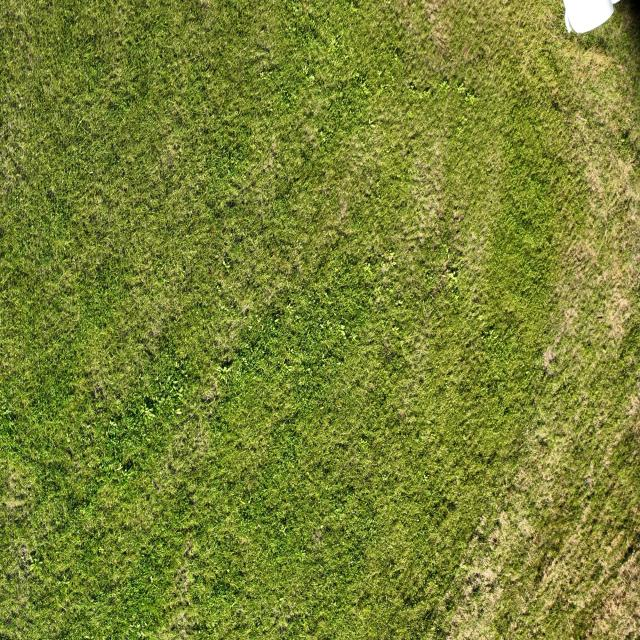rumex: (441, 273, 550, 421), (305, 367, 398, 525), (66, 436, 172, 570), (58, 130, 156, 264), (46, 70, 132, 192), (212, 134, 292, 242), (140, 125, 211, 220), (486, 146, 557, 239), (139, 366, 196, 442), (313, 293, 362, 360), (317, 26, 354, 88), (218, 126, 258, 177), (243, 144, 282, 192), (166, 599, 201, 636), (329, 196, 355, 232), (512, 512, 536, 541), (86, 381, 112, 407), (431, 492, 457, 516), (409, 81, 433, 103), (216, 364, 234, 391), (227, 178, 251, 198), (25, 547, 42, 573), (140, 404, 156, 426), (258, 64, 274, 85), (471, 43, 487, 64), (312, 526, 326, 548), (359, 75, 372, 96), (362, 262, 376, 279), (323, 349, 339, 362), (232, 345, 246, 359), (122, 458, 134, 473), (407, 128, 420, 141), (373, 286, 385, 300), (143, 396, 155, 410), (1, 402, 12, 417), (330, 36, 340, 52), (334, 32, 344, 48), (175, 392, 187, 405), (143, 346, 155, 359), (305, 70, 316, 84), (106, 423, 115, 439), (481, 329, 493, 341), (336, 441, 349, 452), (456, 82, 466, 95), (466, 93, 476, 106), (7, 412, 18, 423), (439, 80, 449, 92), (362, 186, 372, 198), (620, 128, 630, 140), (222, 258, 231, 271), (241, 305, 250, 318), (238, 496, 248, 507), (458, 115, 468, 126), (368, 121, 378, 132), (448, 274, 458, 285), (531, 626, 541, 637), (456, 126, 465, 138), (438, 210, 447, 222), (65, 446, 73, 459), (422, 85, 432, 95), (442, 265, 451, 276), (318, 131, 326, 143), (302, 64, 310, 76), (286, 298, 294, 310), (236, 606, 244, 618), (177, 386, 186, 396), (254, 51, 264, 60), (367, 116, 376, 126), (504, 142, 513, 152), (382, 2, 391, 12), (466, 87, 475, 97), (284, 97, 292, 108), (529, 66, 537, 77), (472, 292, 479, 304), (172, 381, 180, 391), (386, 250, 394, 260), (271, 140, 277, 153), (250, 143, 258, 152), (108, 420, 116, 429), (116, 463, 124, 472), (279, 525, 287, 534), (392, 325, 400, 334), (482, 385, 490, 394), (463, 433, 471, 442), (476, 314, 485, 322), (136, 629, 144, 638), (407, 110, 414, 120), (394, 9, 401, 19), (446, 250, 452, 261), (286, 366, 294, 374), (408, 84, 416, 92), (519, 20, 527, 28), (394, 50, 400, 60), (65, 434, 71, 444), (374, 180, 380, 190), (325, 288, 331, 298), (396, 299, 404, 306), (40, 520, 46, 529), (201, 84, 207, 92), (602, 342, 608, 350), (82, 634, 90, 640), (377, 68, 382, 76), (103, 380, 108, 387)
